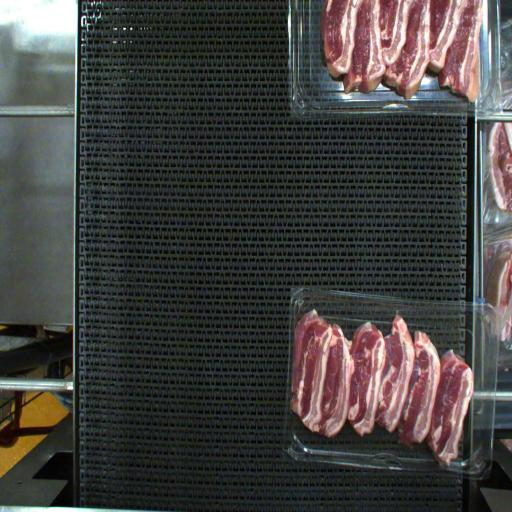packaging-error: (274, 307, 313, 426), (429, 452, 456, 486)
